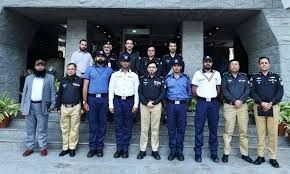uniform: (52, 60, 85, 151), (252, 53, 278, 160), (218, 60, 247, 150), (163, 59, 189, 153), (86, 57, 108, 157), (142, 62, 161, 158)
